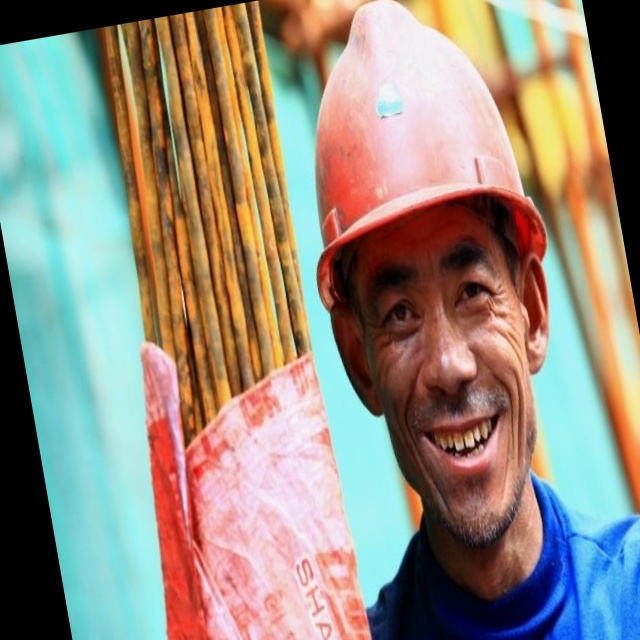Con_Casco: (274, 0, 588, 532)
